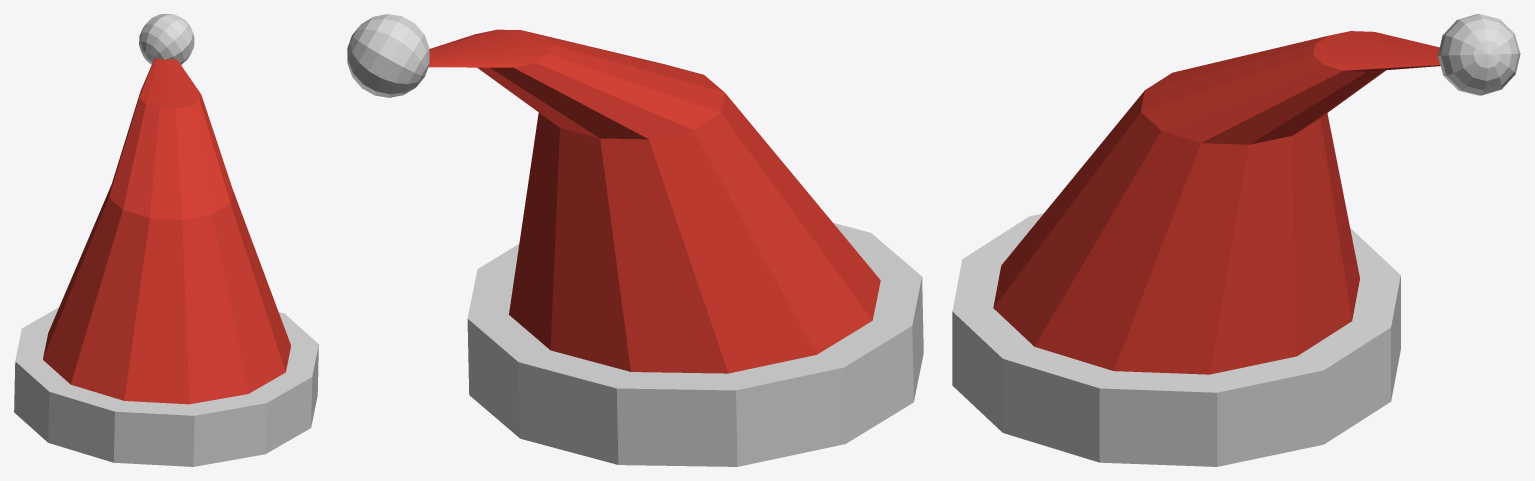
The picture shows the model from 3 angles, left to right: view 1: azimuth 30°, elevation 25°; view 2: azimuth 150°, elevation 25°; view 3: azimuth 270°, elevation 25°; orthographic projection. The views are drawn at different scales.
Visible parts, largest first — view 1: node_MeshObject-1837019968-PolyPaper21; view 2: node_MeshObject-1837019968-PolyPaper21; view 3: node_MeshObject-1837019968-PolyPaper21.
Boxes of the visible parts, x1=… form: node_MeshObject-1837019968-PolyPaper21: x1=14, y1=14, x2=318, y2=466; node_MeshObject-1837019968-PolyPaper21: x1=347, y1=14, x2=923, y2=466; node_MeshObject-1837019968-PolyPaper21: x1=952, y1=14, x2=1520, y2=466.
Size of the model in its own units: 0.1087 by 0.1147 by 0.1371.
